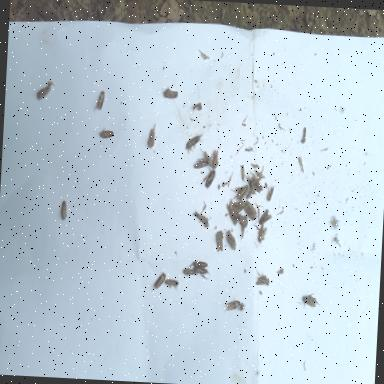pbw: (185, 132, 204, 154), (149, 272, 166, 294), (192, 210, 211, 228), (302, 292, 320, 310), (242, 200, 258, 220), (92, 91, 105, 112), (225, 205, 238, 225), (146, 123, 156, 149), (201, 170, 214, 190), (254, 270, 270, 285), (225, 230, 237, 250), (187, 260, 207, 272), (258, 208, 272, 225), (250, 176, 263, 194), (224, 301, 240, 315), (236, 184, 248, 202), (194, 268, 212, 280), (215, 230, 224, 252), (36, 85, 49, 100), (193, 158, 209, 170), (258, 224, 268, 243), (203, 152, 214, 168), (99, 129, 116, 139), (232, 201, 244, 215), (60, 201, 68, 221), (163, 88, 178, 98), (266, 185, 275, 201), (164, 279, 178, 289), (182, 268, 196, 277), (255, 172, 263, 186), (213, 150, 219, 168), (239, 165, 245, 180), (250, 164, 260, 169)
